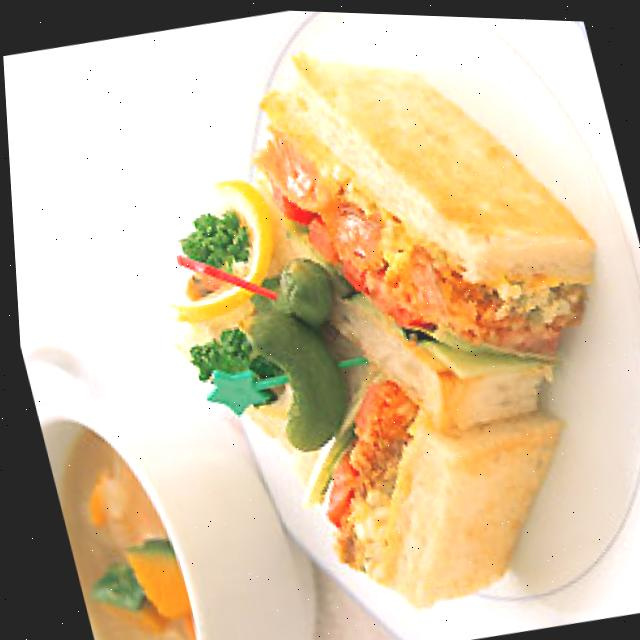三明治: (178, 15, 640, 623)
